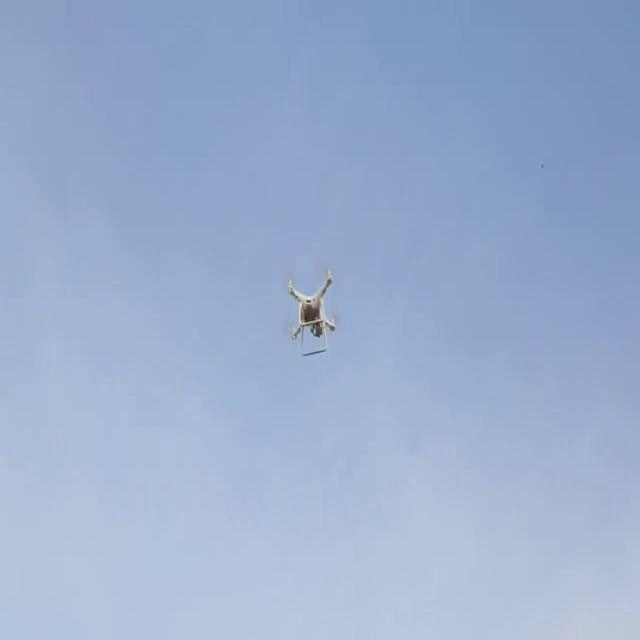drone: (275, 265, 342, 368)
